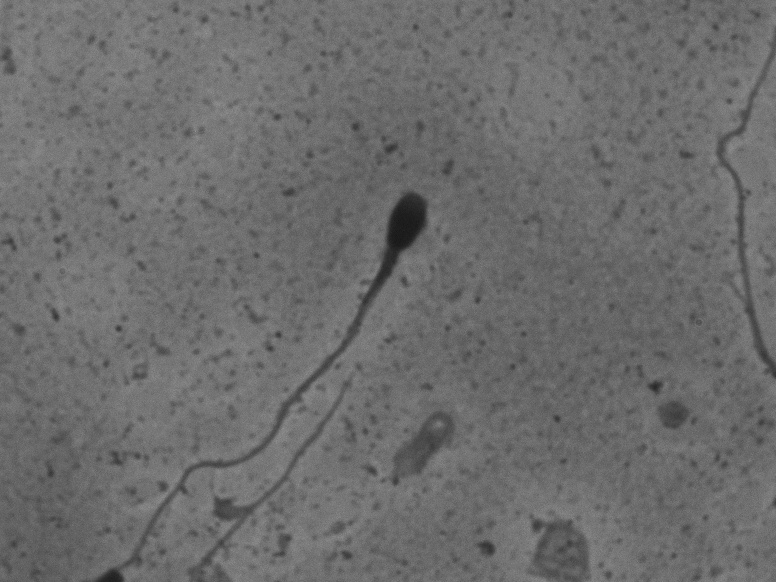Normal: (112, 178, 450, 571)
